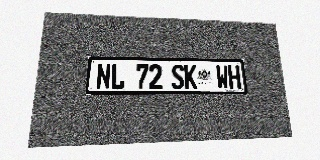2: (149, 64, 162, 89)
7: (135, 64, 149, 89)
H: (228, 66, 241, 89)
K: (184, 65, 197, 89)
L: (110, 64, 125, 89)
N: (96, 64, 111, 89)
S: (171, 65, 184, 89)
W: (216, 65, 229, 89)
